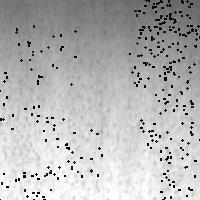pitted_surface: (1, 1, 197, 198), (129, 38, 188, 98), (43, 117, 101, 177), (15, 25, 74, 83), (137, 26, 195, 81), (140, 105, 194, 160), (158, 82, 200, 142), (0, 68, 38, 128), (138, 0, 191, 40), (160, 147, 200, 200), (148, 0, 200, 36), (0, 170, 56, 200), (134, 0, 190, 29)
